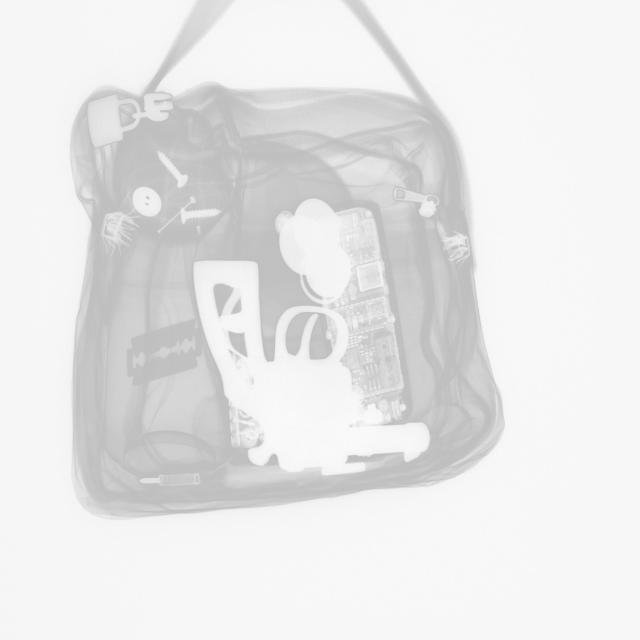pistol: (194, 260, 429, 469)
